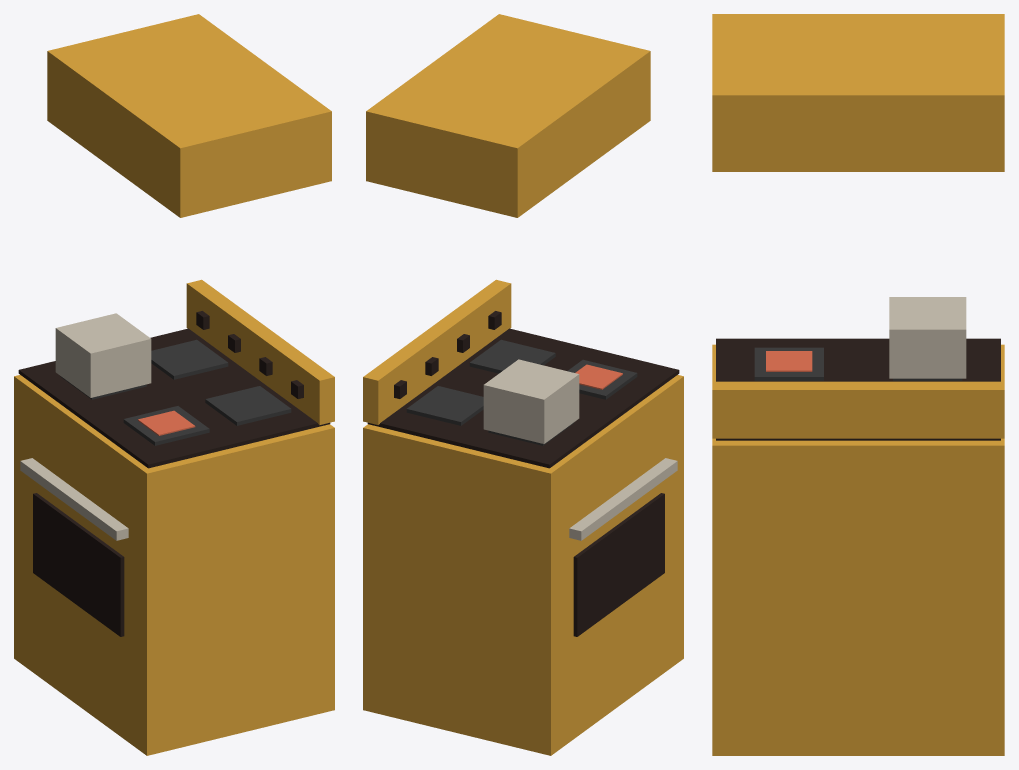
Rendered from stove.glb.
3 renders of one model, left to right at view 1: azimuth 30°, elevation 25°; view 2: azimuth 150°, elevation 25°; view 3: azimuth 270°, elevation 25°, orthographic. The views are drawn at different scales.
Visible parts, largest first — view 1: Box1, Box16, Box4, Box11, Box2, Box10, Box3, Box7, Box5, Box8, Box9; view 2: Box1, Box16, Box4, Box11, Box2, Box10, Box3, Box5, Box7, Box8, Box9; view 3: Box1, Box16, Box11, Box4, Box10, Box8, Box9.
Boxes of the visible parts, bbox=[...] form: Box1: bbox=[14, 375, 334, 755]; Box16: bbox=[47, 14, 331, 217]; Box4: bbox=[18, 328, 330, 468]; Box11: bbox=[186, 279, 334, 424]; Box2: bbox=[33, 493, 124, 636]; Box10: bbox=[55, 313, 151, 397]; Box3: bbox=[20, 458, 128, 540]; Box7: bbox=[205, 386, 291, 425]; Box5: bbox=[151, 339, 228, 379]; Box8: bbox=[123, 406, 209, 445]; Box9: bbox=[138, 410, 195, 435]; Box1: bbox=[363, 375, 683, 755]; Box16: bbox=[366, 14, 650, 217]; Box4: bbox=[367, 328, 679, 468]; Box11: bbox=[363, 279, 511, 424]; Box2: bbox=[573, 493, 664, 636]; Box10: bbox=[483, 359, 579, 443]; Box3: bbox=[569, 458, 677, 540]; Box5: bbox=[406, 386, 483, 425]; Box7: bbox=[469, 339, 555, 373]; Box8: bbox=[567, 359, 637, 399]; Box9: bbox=[575, 364, 622, 389]; Box1: bbox=[712, 344, 1004, 755]; Box16: bbox=[712, 14, 1004, 171]; Box11: bbox=[712, 381, 1004, 438]; Box4: bbox=[716, 338, 1000, 440]; Box10: bbox=[889, 297, 966, 378]; Box8: bbox=[754, 347, 823, 380]; Box9: bbox=[766, 351, 812, 371].
Bounding box in the file's own units: 0.66 × 1.89 × 0.76.
